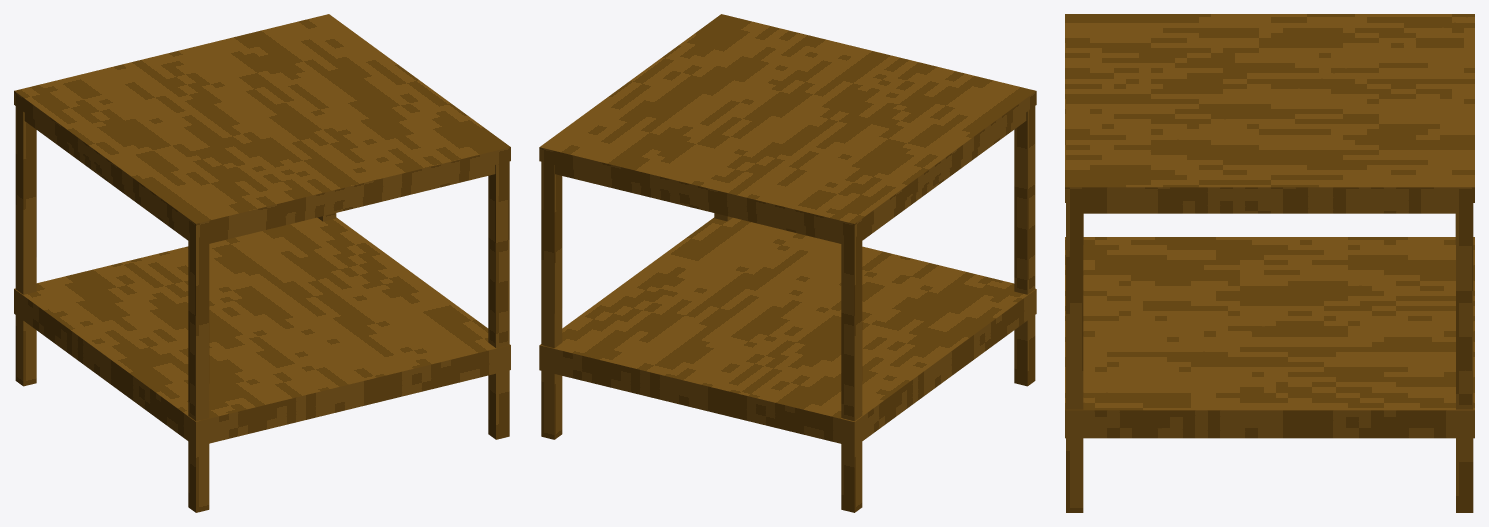
File: Square Table.fbx
3 renders of one model, left to right at view 1: azimuth 30°, elevation 25°; view 2: azimuth 150°, elevation 25°; view 3: azimuth 270°, elevation 25°, orthographic. The views are drawn at different scales.
Parts seen in each view (by area): view 1: Cube_7; view 2: Cube_7; view 3: Cube_7.
Boxes of the visible parts, x1,y1,x2,y2 form: Cube_7: (14, 14, 510, 512); Cube_7: (539, 14, 1036, 512); Cube_7: (1065, 14, 1474, 512).
Size of the model in its own units: 118 by 103 by 118.
Materials: 1 (1 with a texture image).
